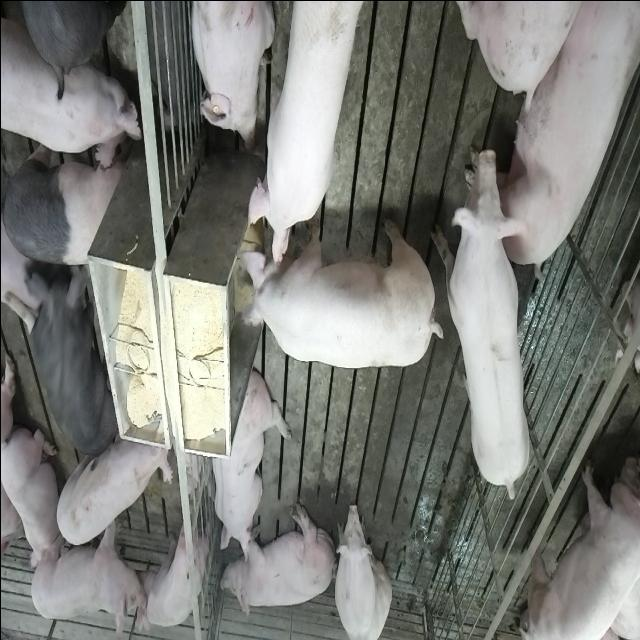Feeding: (232, 212, 442, 372), (246, 7, 364, 274)
Lateral_lying: (219, 499, 335, 621)
Sitting: (332, 495, 392, 639)
Standing: (438, 145, 536, 502), (2, 3, 140, 170), (524, 451, 640, 640), (24, 260, 116, 460), (3, 130, 125, 270), (51, 425, 168, 545), (13, 2, 126, 82), (138, 507, 202, 625)
Sternal_lying: (208, 366, 286, 558), (185, 0, 272, 148), (3, 421, 61, 571), (0, 485, 25, 575)
